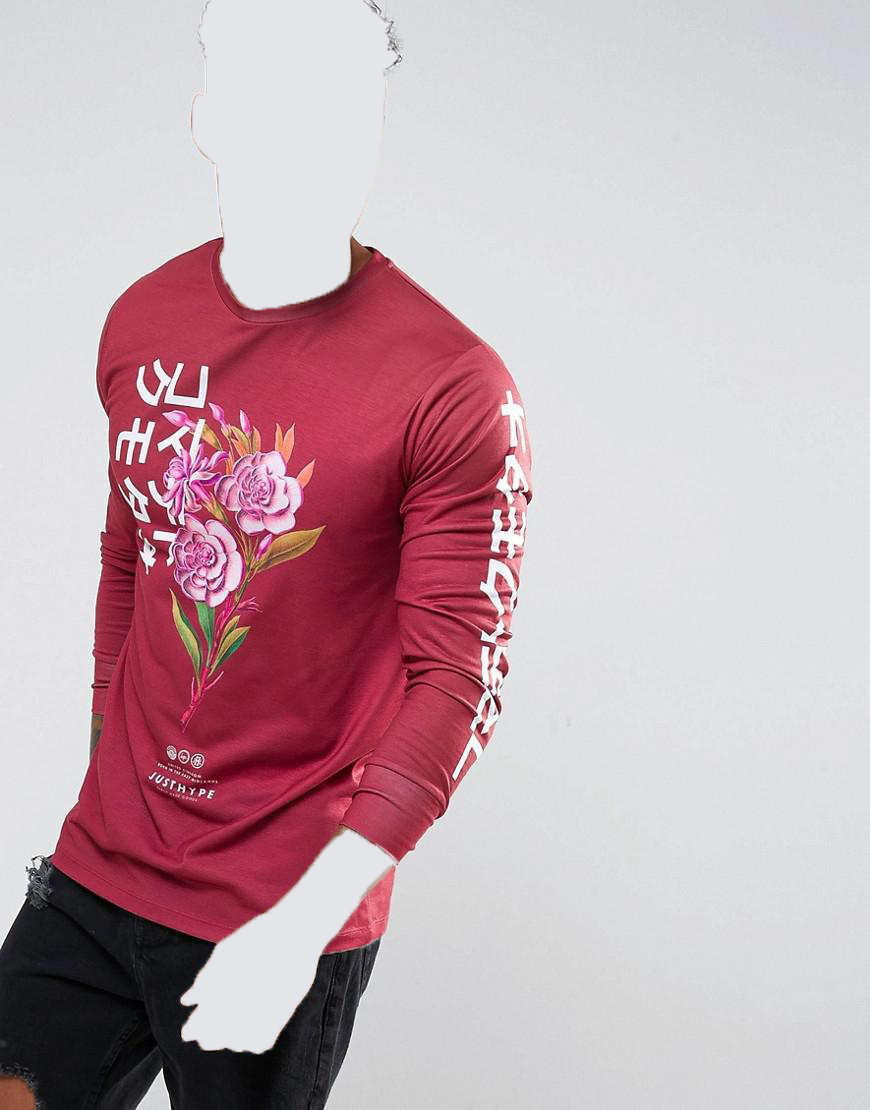teeshirt: (44, 230, 542, 951)
